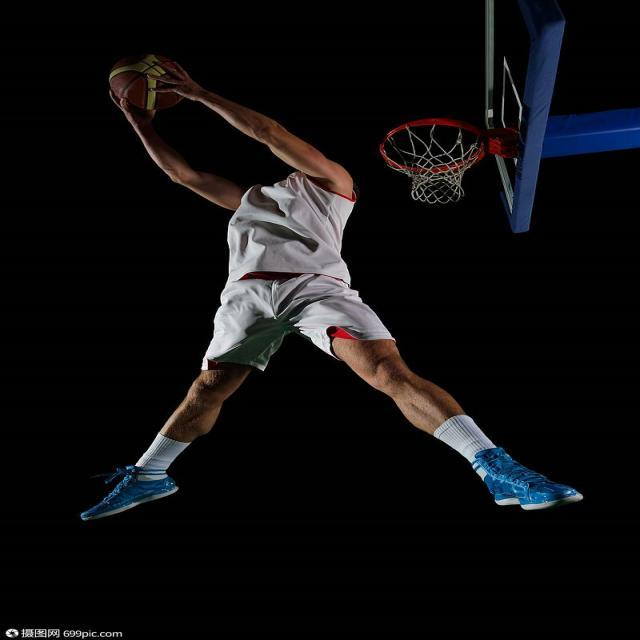rim: (105, 54, 198, 112)
